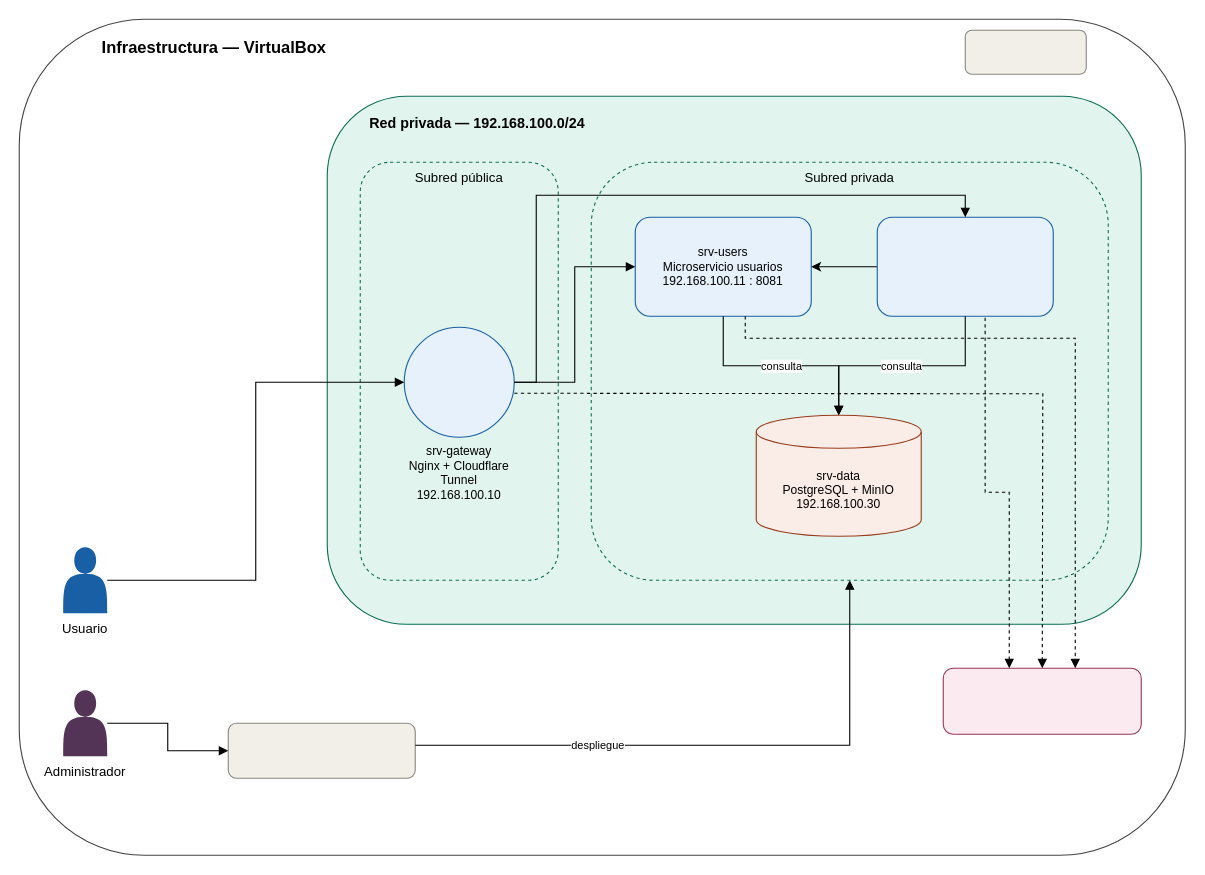
This 1205x875 diagram has some shape labels left out. The centre of each missing label's shape, as x and y in pixels:
"Registros (journalctl / systemd)" goes at point (1041, 700).
"Repositorio (GitHub)" goes at point (321, 750).
"Rocky Linux" goes at point (1025, 51).
"srv-products Microservicio productos 192.168.100.12 : 8082" goes at point (964, 266).
